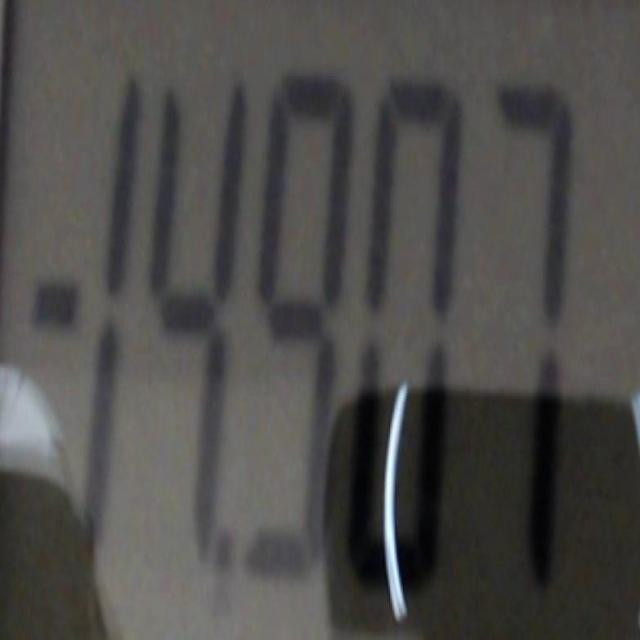.: (32, 278, 78, 328), (216, 530, 238, 585)
0: (353, 74, 466, 591)
1: (77, 77, 146, 556)
4: (151, 78, 249, 558)
7: (497, 77, 578, 584)
9: (249, 81, 356, 572)
